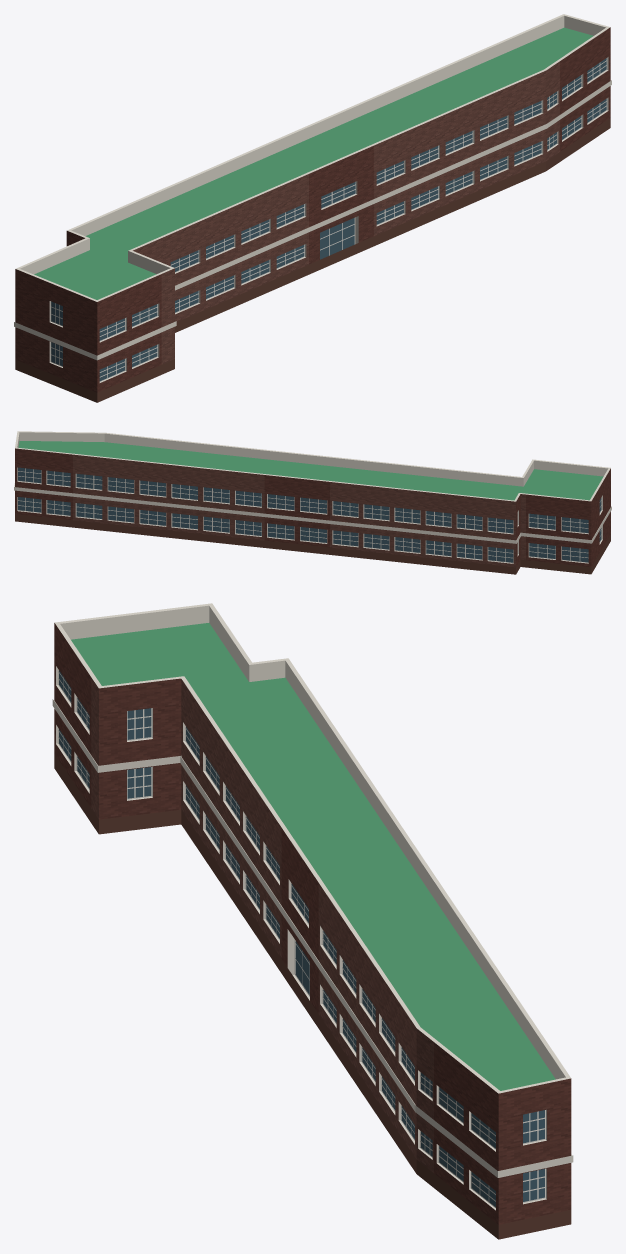
The picture shows the model from 3 angles, top to bottom: view 1: azimuth 30°, elevation 25°; view 2: azimuth 150°, elevation 25°; view 3: azimuth 270°, elevation 25°; orthographic projection. The views are drawn at different scales.
Visible parts, largest first — view 1: wing3__wall-plaster, wing3__roof, wing3__brick, wing3__trim-concrete, wing3__glass, wing3__base-stone, wing3__frame; view 2: wing3__wall-plaster, wing3__glass, wing3__trim-concrete, wing3__brick, wing3__roof, wing3__frame, wing3__base-stone; view 3: wing3__roof, wing3__brick, wing3__trim-concrete, wing3__wall-plaster, wing3__glass, wing3__base-stone, wing3__frame.
Boxes of the visible parts, x1,y1,x2,y2 form: wing3__wall-plaster: (133, 61, 559, 364); wing3__roof: (34, 27, 593, 299); wing3__brick: (15, 27, 610, 392); wing3__trim-concrete: (14, 14, 611, 382); wing3__glass: (51, 58, 606, 381); wing3__base-stone: (15, 118, 610, 402); wing3__frame: (50, 58, 607, 381); wing3__wall-plaster: (73, 454, 525, 567); wing3__glass: (18, 467, 601, 562); wing3__trim-concrete: (14, 431, 611, 563); wing3__brick: (15, 448, 610, 566); wing3__roof: (18, 441, 603, 500); wing3__frame: (17, 468, 601, 563); wing3__base-stone: (15, 514, 610, 574); wing3__roof: (71, 623, 555, 1090); wing3__brick: (54, 623, 571, 1224); wing3__trim-concrete: (52, 603, 573, 1210); wing3__wall-plaster: (91, 678, 433, 1172); wing3__glass: (59, 670, 544, 1206); wing3__base-stone: (54, 754, 571, 1239); wing3__frame: (58, 669, 545, 1207).
Bounding box in the file's own units: 64.67 × 8.95 × 28.92.
7 materials, 2 textured.
